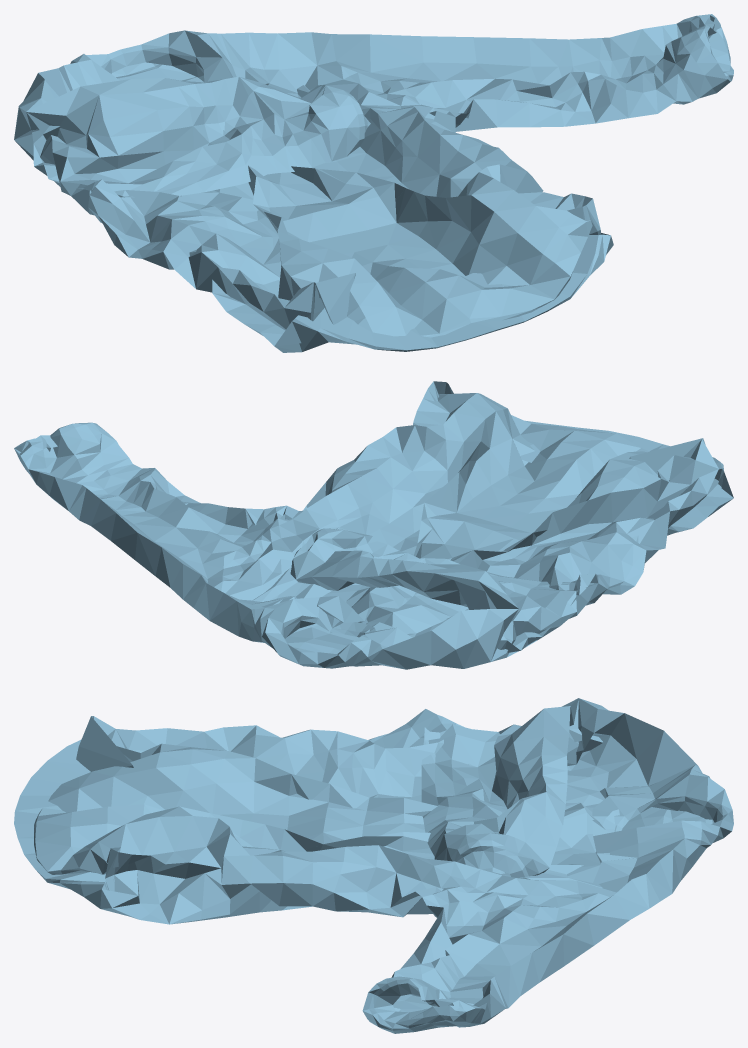
The model's file is frame_01.glb.
3 renders of one model, top to bottom at view 1: azimuth 30°, elevation 25°; view 2: azimuth 150°, elevation 25°; view 3: azimuth 270°, elevation 25°, orthographic. The views are drawn at different scales.
Visible parts, largest first — view 1: frame_01.obj; view 2: frame_01.obj; view 3: frame_01.obj.
Part boxes in pixels (x1,y1,x2,y2): frame_01.obj: (14, 14, 733, 352); frame_01.obj: (14, 381, 733, 669); frame_01.obj: (14, 698, 733, 1033).
Bounding box in the file's own units: 1.61 × 0.2331 × 1.59.
